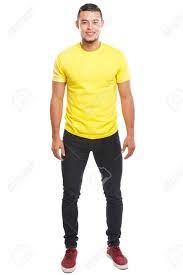person: (48, 4, 143, 270)
